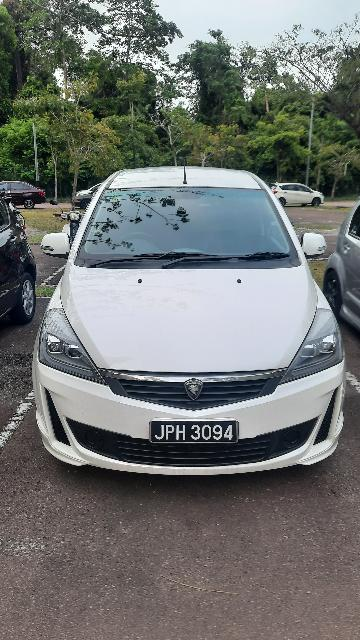License_Plate: (150, 420, 243, 448)
car: (25, 157, 353, 478)
